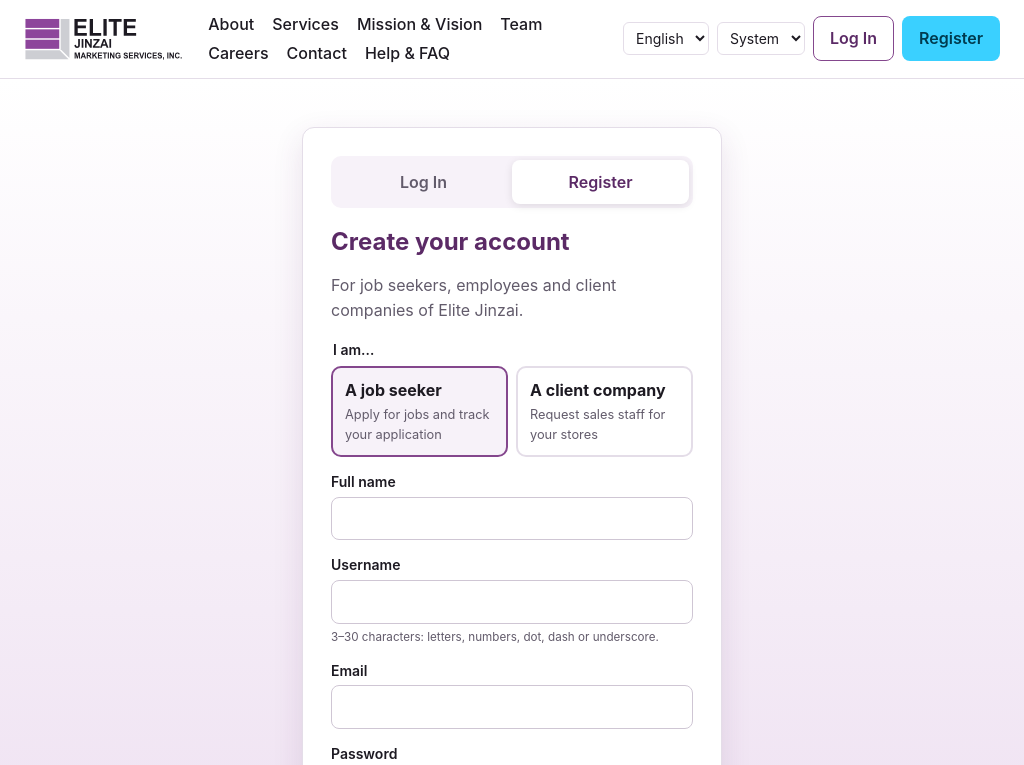
Test case: registers a new staff account and opens the dashboard
The image size is (1024, 765).
Step 1. Type "Maria Santos" into the field labelled "Full name" → (512, 518), box [331, 497, 693, 540]
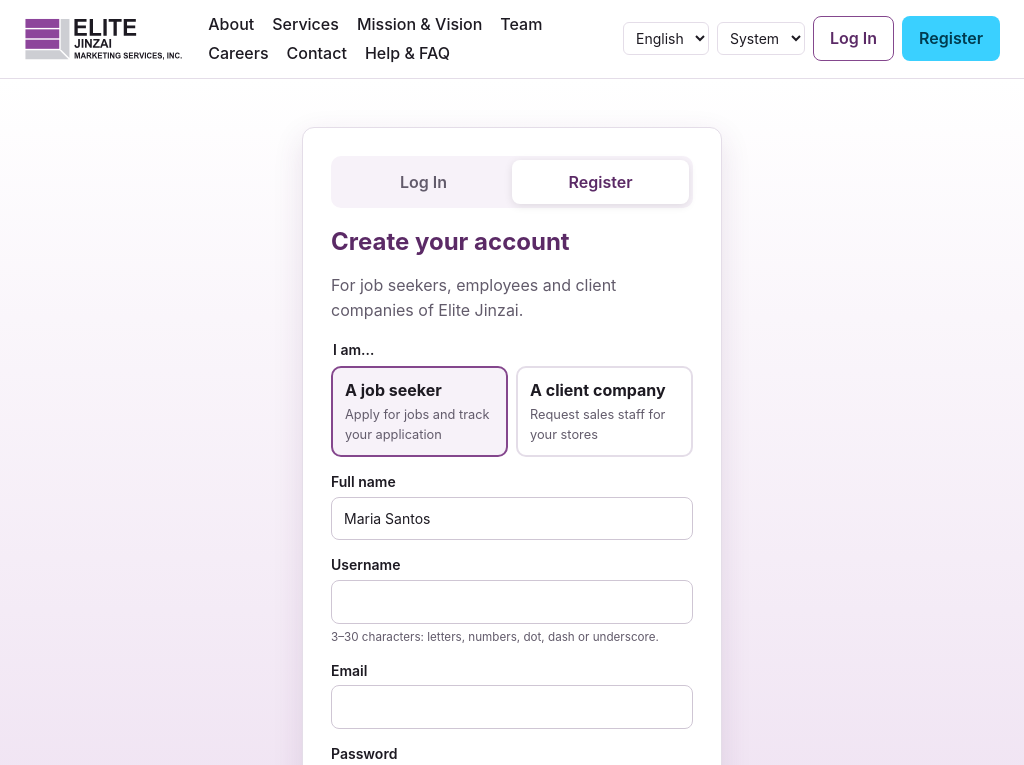
Step 2. Type "maria.s" into the field labelled "Username" → (512, 602), box [331, 580, 693, 624]
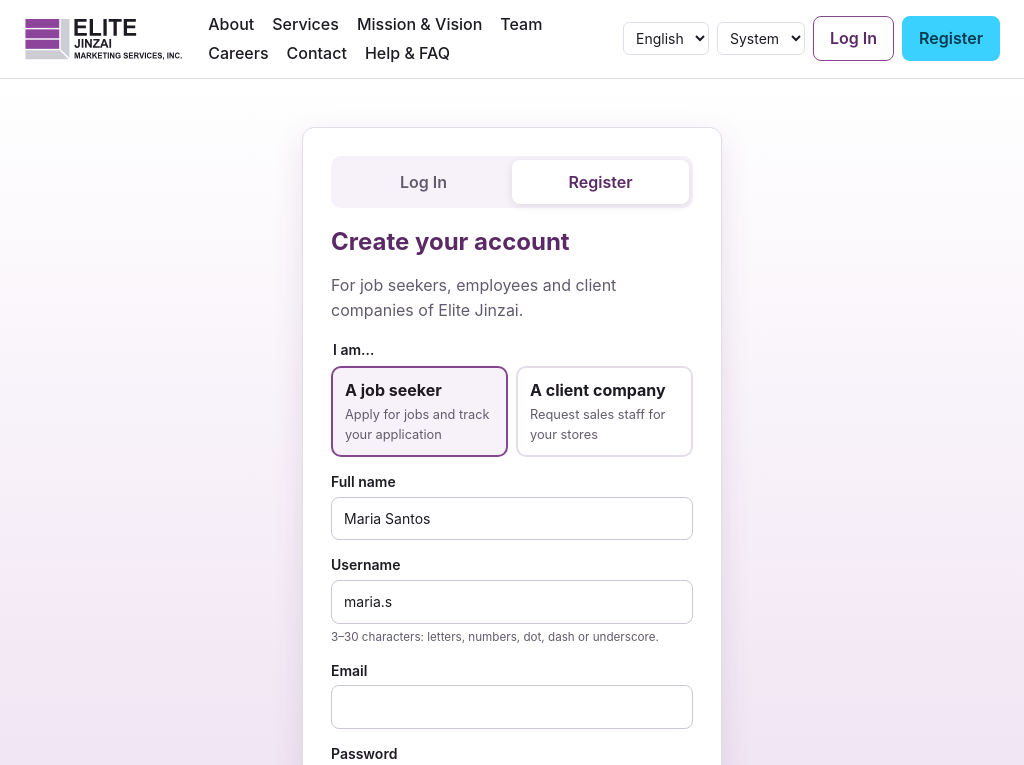
Step 3. Type "maria@example.com" into the field labelled "Email" → (512, 707), box [331, 685, 693, 729]
(page scrolled)
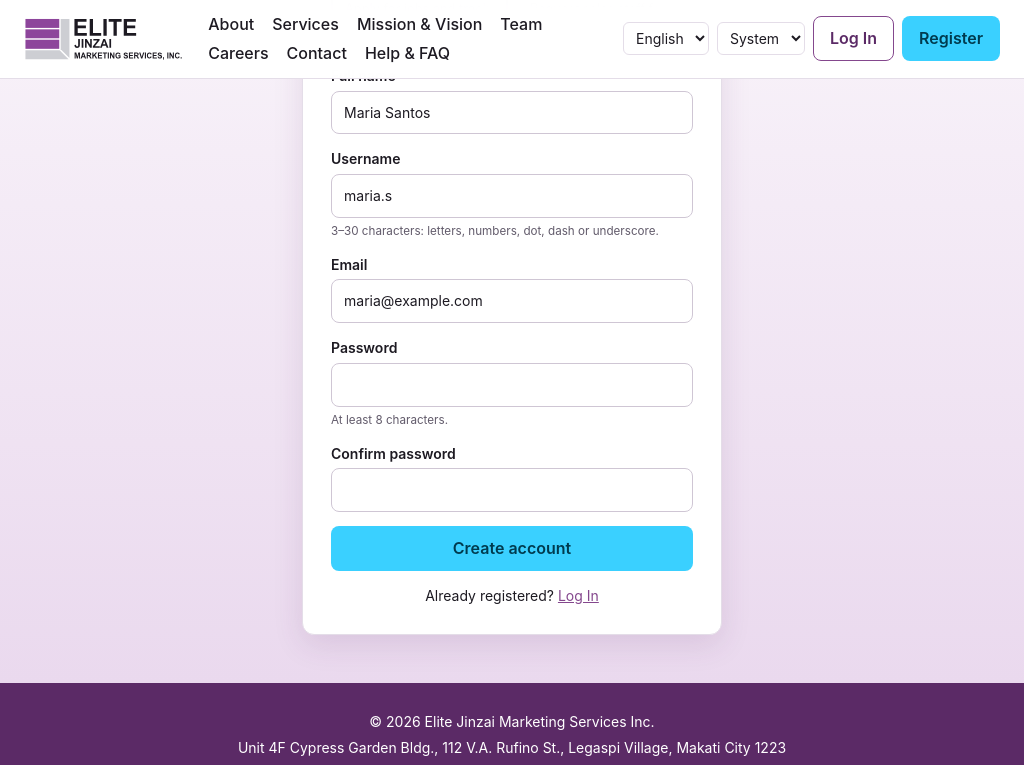
Step 4. Type "secret123" into the password field labelled "Password At least 8 characters." → (512, 385), box [331, 363, 693, 406]
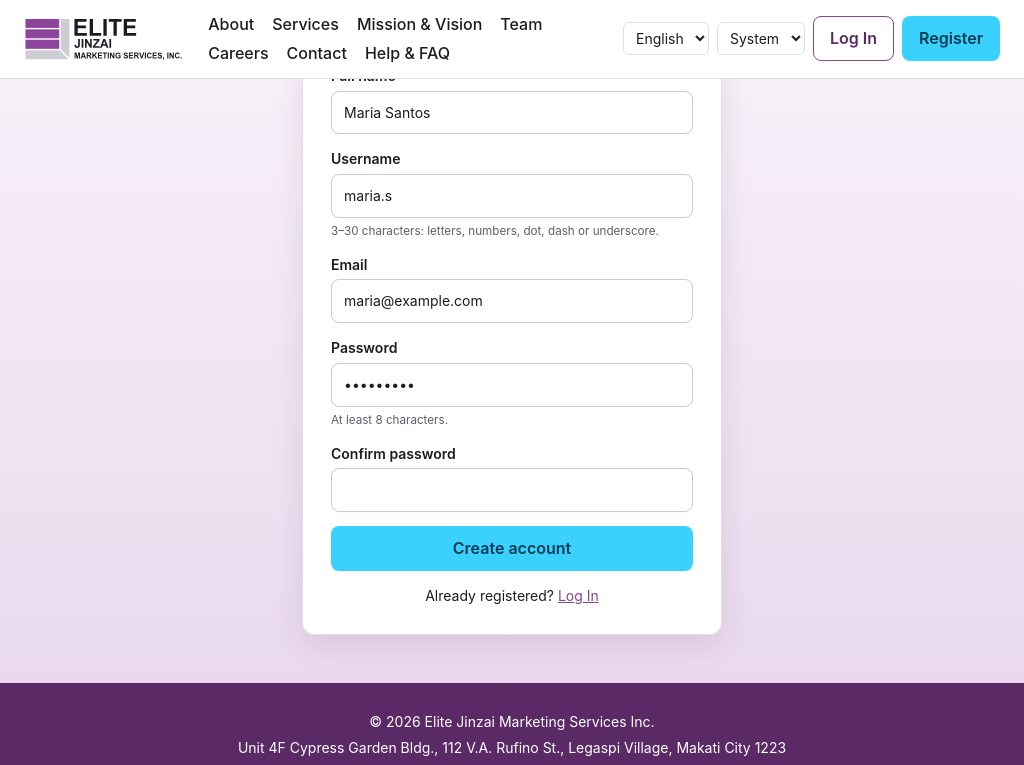
Step 5. Type "secret123" into the password field labelled "Confirm password" → (512, 490), box [331, 468, 693, 512]
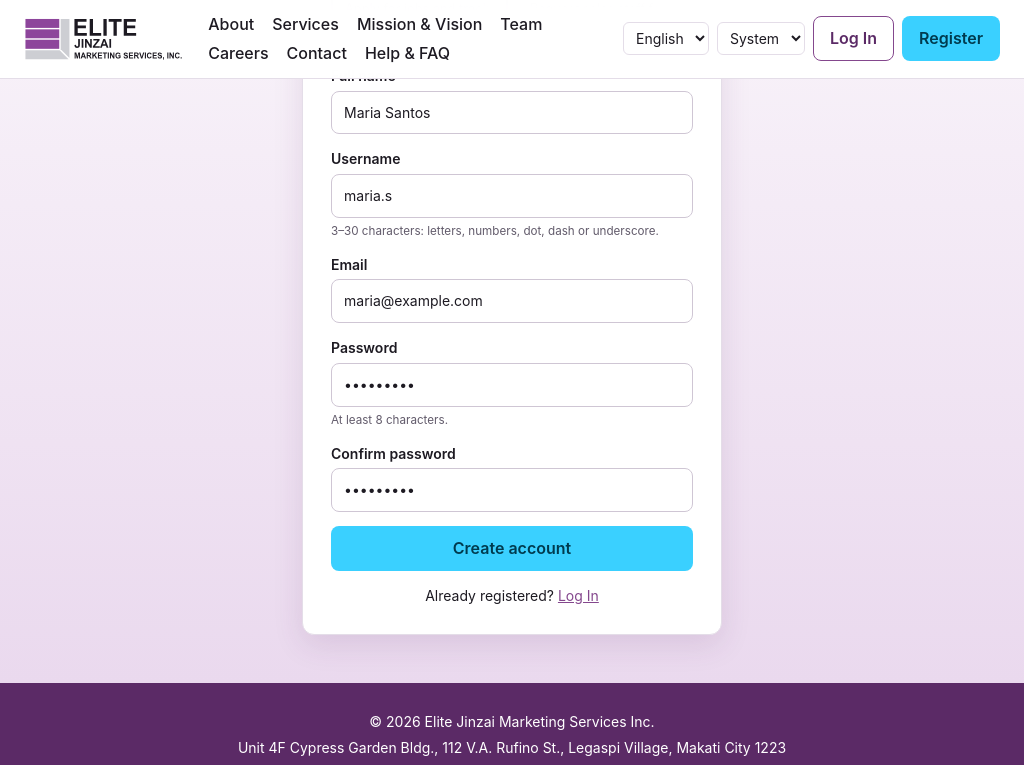
Step 6. Click the button "Create account" → (512, 548), box [331, 526, 693, 571]
(page scrolled)
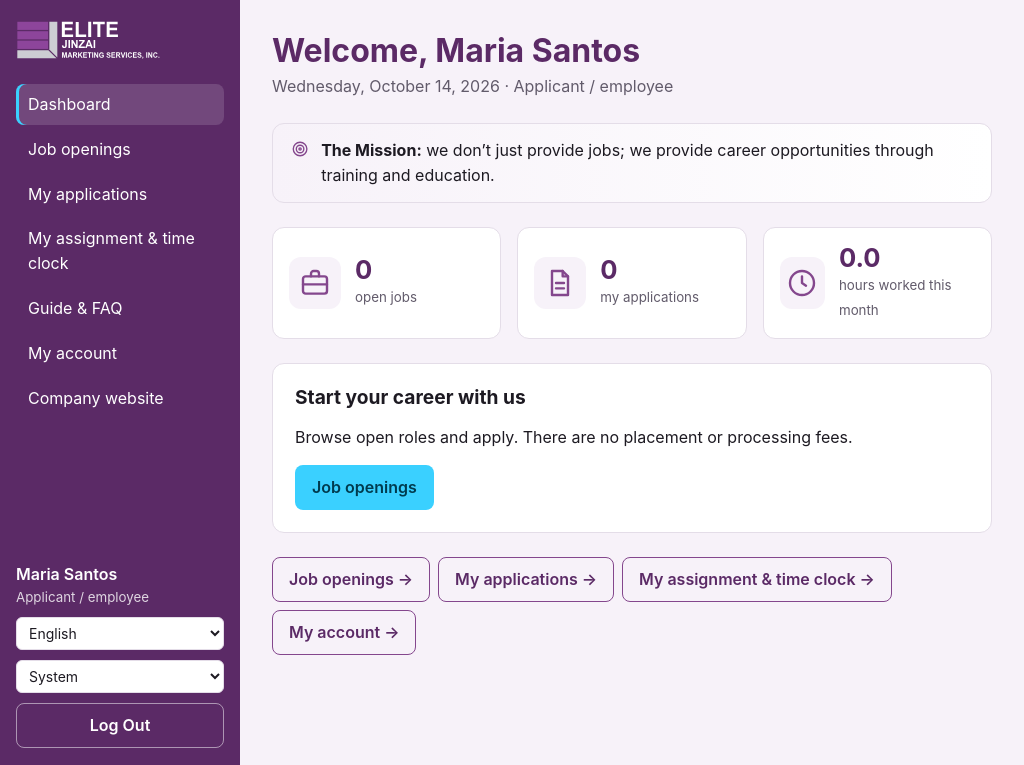
Expected: the heading "Welcome, Maria Santos" is shown, [272, 31, 640, 70]
